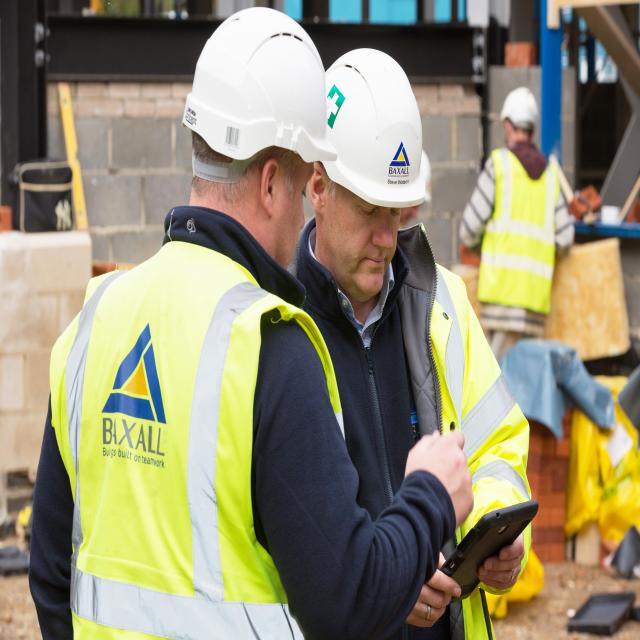Reflective-Jacket: (51, 250, 342, 640), (390, 269, 540, 634), (476, 146, 562, 317)
Safety-Helmet: (177, 4, 337, 172), (323, 42, 431, 208), (498, 81, 541, 129)
